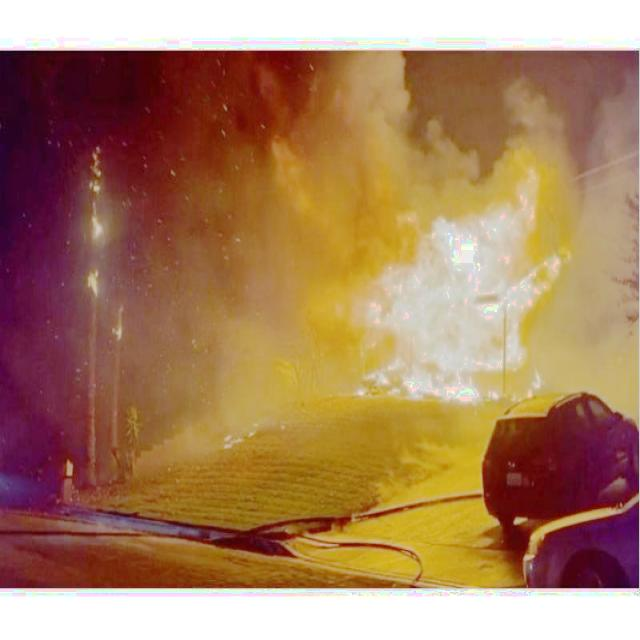api: (391, 176, 540, 414)
asap: (186, 80, 398, 419), (543, 68, 639, 411), (420, 64, 540, 172)
